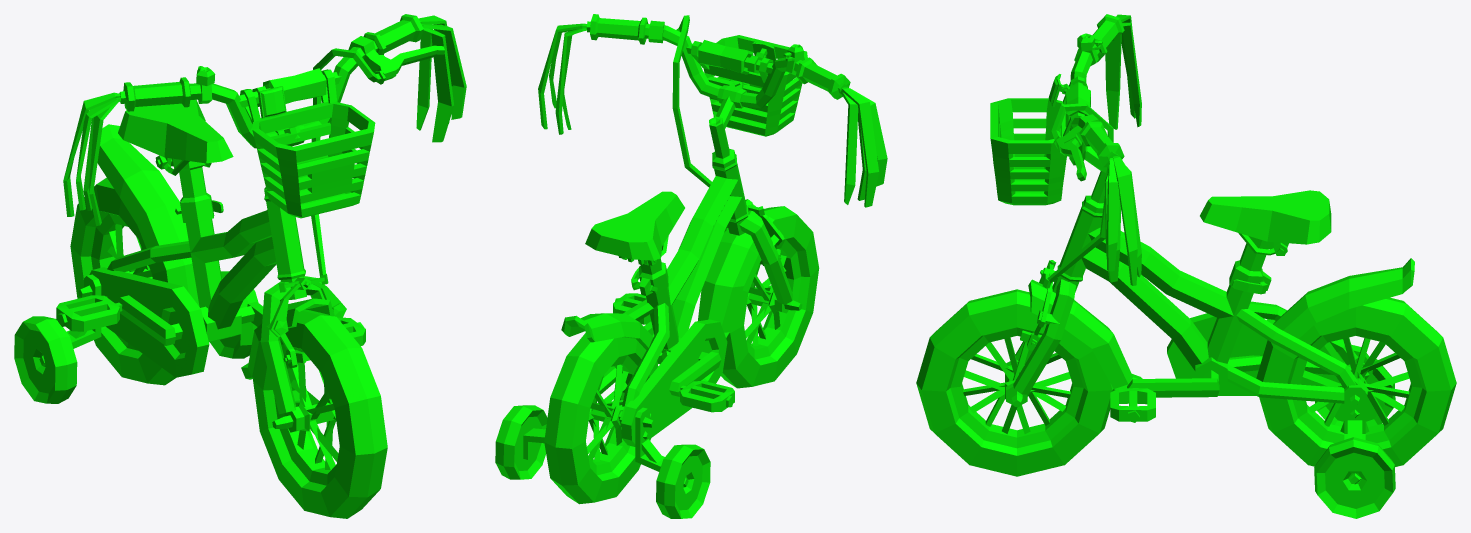
File: SM_Bike_Kids_Road_Modern.fbx
3 renders of one model, left to right at view 1: azimuth 30°, elevation 25°; view 2: azimuth 150°, elevation 25°; view 3: azimuth 270°, elevation 25°, orthographic. The views are drawn at different scales.
Parts seen in each view (by area): view 1: SM_Bike_Kids_Modern_Handlebars, SM_Bike_Kids_Modern_Base, SM_Bike_Kids_Modern_Wheel_F, SM_Bike_Kids_Modern_Wheel_B, SM_Bike_Kids_Modern_Wheel_Small_R, SM_Bike_Kids_Modern_Crank_Pedal_R, SM_Bike_Kids_Modern_Crank_Arm_R, SM_Bike_Kids_Modern_Wheel_Small_L; view 2: SM_Bike_Kids_Modern_Handlebars, SM_Bike_Kids_Modern_Base, SM_Bike_Kids_Modern_Wheel_B, SM_Bike_Kids_Modern_Wheel_F, SM_Bike_Kids_Modern_Wheel_Small_R, SM_Bike_Kids_Modern_Wheel_Small_L, SM_Bike_Kids_Modern_Crank_Pedal_R, SM_Bike_Kids_Modern_Crank_Arm_R, SM_Bike_Kids_Modern_Crank_Pedal_L; view 3: SM_Bike_Kids_Modern_Base, SM_Bike_Kids_Modern_Handlebars, SM_Bike_Kids_Modern_Wheel_F, SM_Bike_Kids_Modern_Wheel_B, SM_Bike_Kids_Modern_Wheel_Small_L, SM_Bike_Kids_Modern_Crank_Arm_L, SM_Bike_Kids_Modern_Crank_Pedal_L, SM_Bike_Kids_Modern_Wheel_Small_R.
Boxes of the visible parts, x1=… form: SM_Bike_Kids_Modern_Handlebars: x1=63, y1=14, x2=466, y2=432; SM_Bike_Kids_Modern_Base: x1=66, y1=99, x2=305, y2=377; SM_Bike_Kids_Modern_Wheel_F: x1=253, y1=309, x2=387, y2=518; SM_Bike_Kids_Modern_Wheel_B: x1=70, y1=177, x2=199, y2=385; SM_Bike_Kids_Modern_Wheel_Small_R: x1=14, y1=316, x2=77, y2=403; SM_Bike_Kids_Modern_Crank_Pedal_R: x1=56, y1=295, x2=122, y2=331; SM_Bike_Kids_Modern_Crank_Arm_R: x1=116, y1=295, x2=175, y2=345; SM_Bike_Kids_Modern_Wheel_Small_L: x1=210, y1=271, x2=258, y2=358; SM_Bike_Kids_Modern_Handlebars: x1=538, y1=14, x2=887, y2=337; SM_Bike_Kids_Modern_Base: x1=523, y1=154, x2=748, y2=471; SM_Bike_Kids_Modern_Wheel_B: x1=544, y1=333, x2=658, y2=504; SM_Bike_Kids_Modern_Wheel_F: x1=721, y1=206, x2=819, y2=388; SM_Bike_Kids_Modern_Wheel_Small_R: x1=656, y1=444, x2=710, y2=518; SM_Bike_Kids_Modern_Wheel_Small_L: x1=495, y1=405, x2=547, y2=479; SM_Bike_Kids_Modern_Crank_Pedal_R: x1=680, y1=381, x2=734, y2=412; SM_Bike_Kids_Modern_Crank_Arm_R: x1=669, y1=351, x2=721, y2=396; SM_Bike_Kids_Modern_Crank_Pedal_L: x1=613, y1=293, x2=651, y2=324; SM_Bike_Kids_Modern_Base: x1=1057, y1=190, x2=1414, y2=439; SM_Bike_Kids_Modern_Handlebars: x1=990, y1=14, x2=1142, y2=405; SM_Bike_Kids_Modern_Wheel_F: x1=916, y1=289, x2=1114, y2=476; SM_Bike_Kids_Modern_Wheel_B: x1=1256, y1=297, x2=1456, y2=466; SM_Bike_Kids_Modern_Wheel_Small_L: x1=1314, y1=437, x2=1395, y2=518; SM_Bike_Kids_Modern_Crank_Arm_L: x1=1127, y1=378, x2=1219, y2=397; SM_Bike_Kids_Modern_Crank_Pedal_L: x1=1110, y1=388, x2=1155, y2=422; SM_Bike_Kids_Modern_Wheel_Small_R: x1=1315, y1=359, x2=1395, y2=427.
Size of the model in its own units: 0.6361 by 0.6713 by 0.8151.
